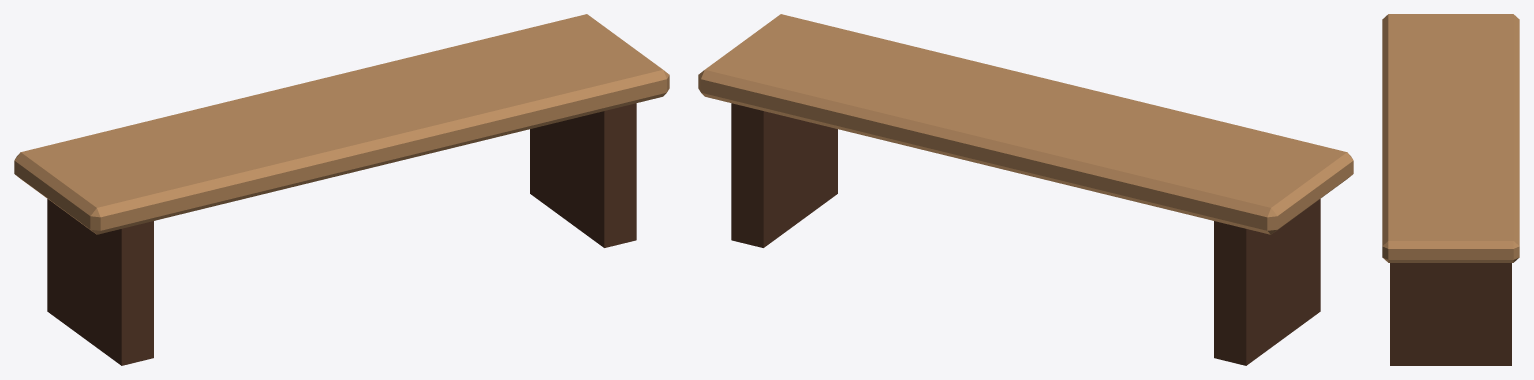
The model's file is bench.glb.
3 renders of one model, left to right at view 1: azimuth 30°, elevation 25°; view 2: azimuth 150°, elevation 25°; view 3: azimuth 270°, elevation 25°, orthographic. The views are drawn at different scales.
Visible parts, largest first — view 1: Bench; view 2: Bench; view 3: Bench.
Part boxes in pixels (x1=…): Bench: x1=14, y1=14, x2=669, y2=365; Bench: x1=698, y1=14, x2=1353, y2=365; Bench: x1=1382, y1=14, x2=1519, y2=365.
Size of what is drawn, in the model's own units: 1.8 by 0.49 by 0.45.
